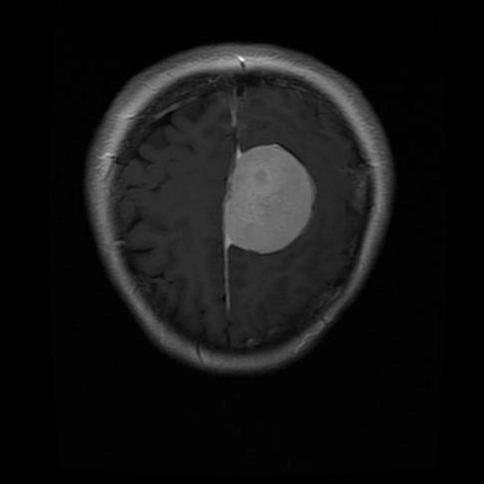Tumour-Pituitary: (191, 116, 323, 274)
